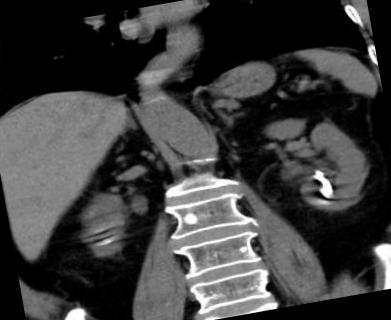Tas_Var: (310, 164, 338, 202), (312, 168, 326, 176)
